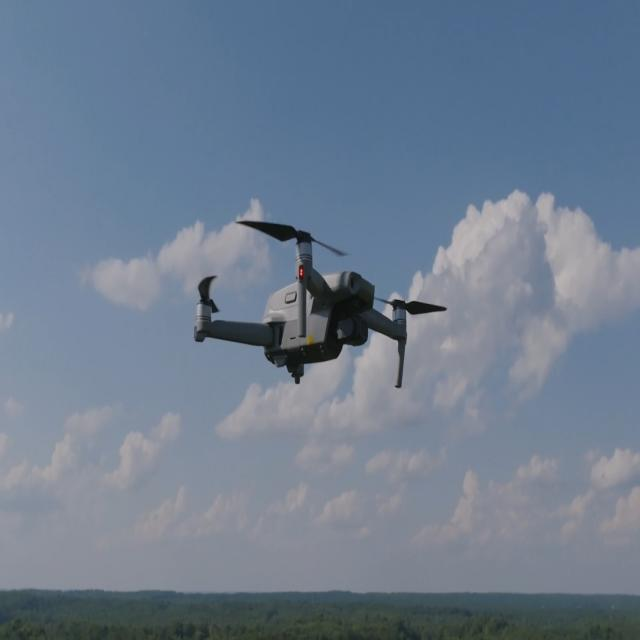Drone: (194, 210, 446, 384)
